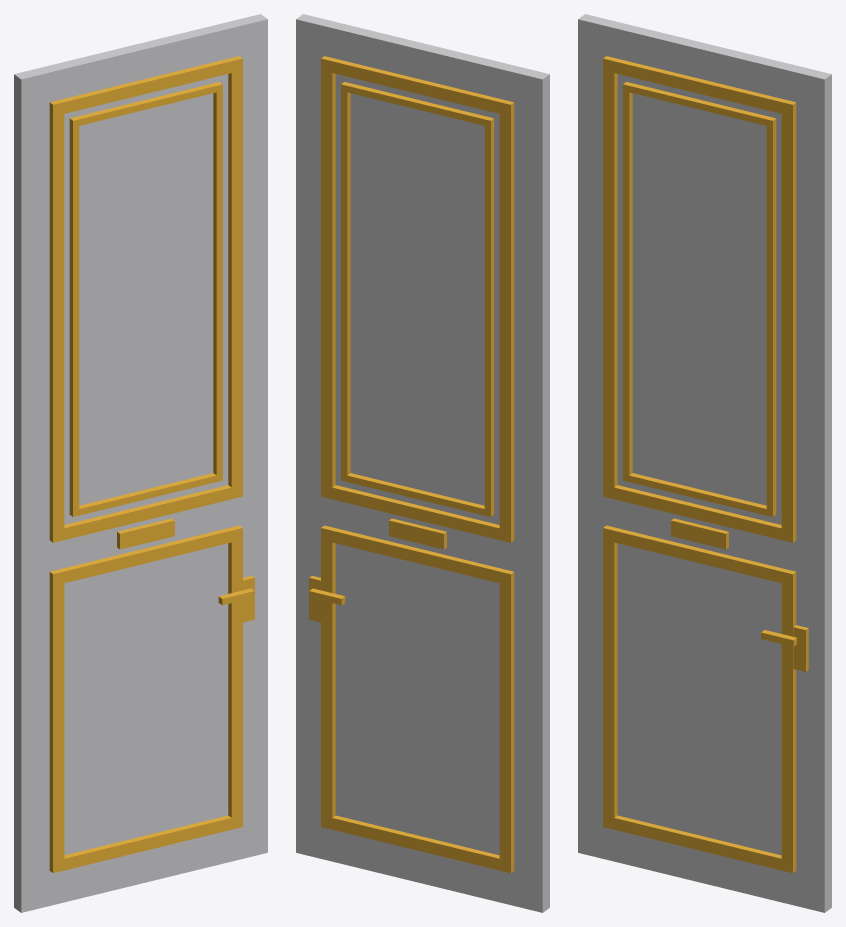
The model's file is SM_Door_obelisk_inner_100x320.fbx.
The picture shows the model from 3 angles, left to right: view 1: azimuth 30°, elevation 25°; view 2: azimuth 150°, elevation 25°; view 3: azimuth 330°, elevation 25°; orthographic projection.
Visible parts, largest first — view 1: SM_Door_obelisk_inner_100x320; view 2: SM_Door_obelisk_inner_100x320; view 3: SM_Door_obelisk_inner_100x320.
Boxes of the visible parts, bbox=[...] form: SM_Door_obelisk_inner_100x320: bbox=[14, 14, 267, 912]; SM_Door_obelisk_inner_100x320: bbox=[296, 14, 549, 912]; SM_Door_obelisk_inner_100x320: bbox=[578, 14, 831, 912].
Bounding box in the file's own units: 0.988 × 3.19 × 0.175.
